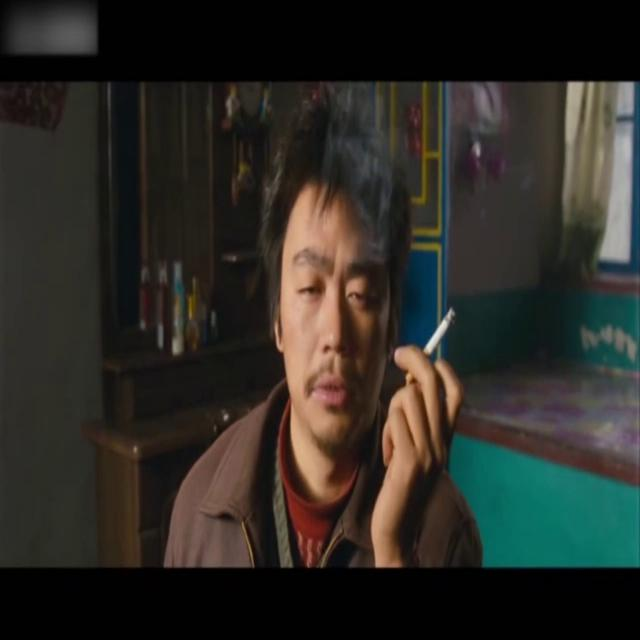smoking: (406, 311, 453, 384)
